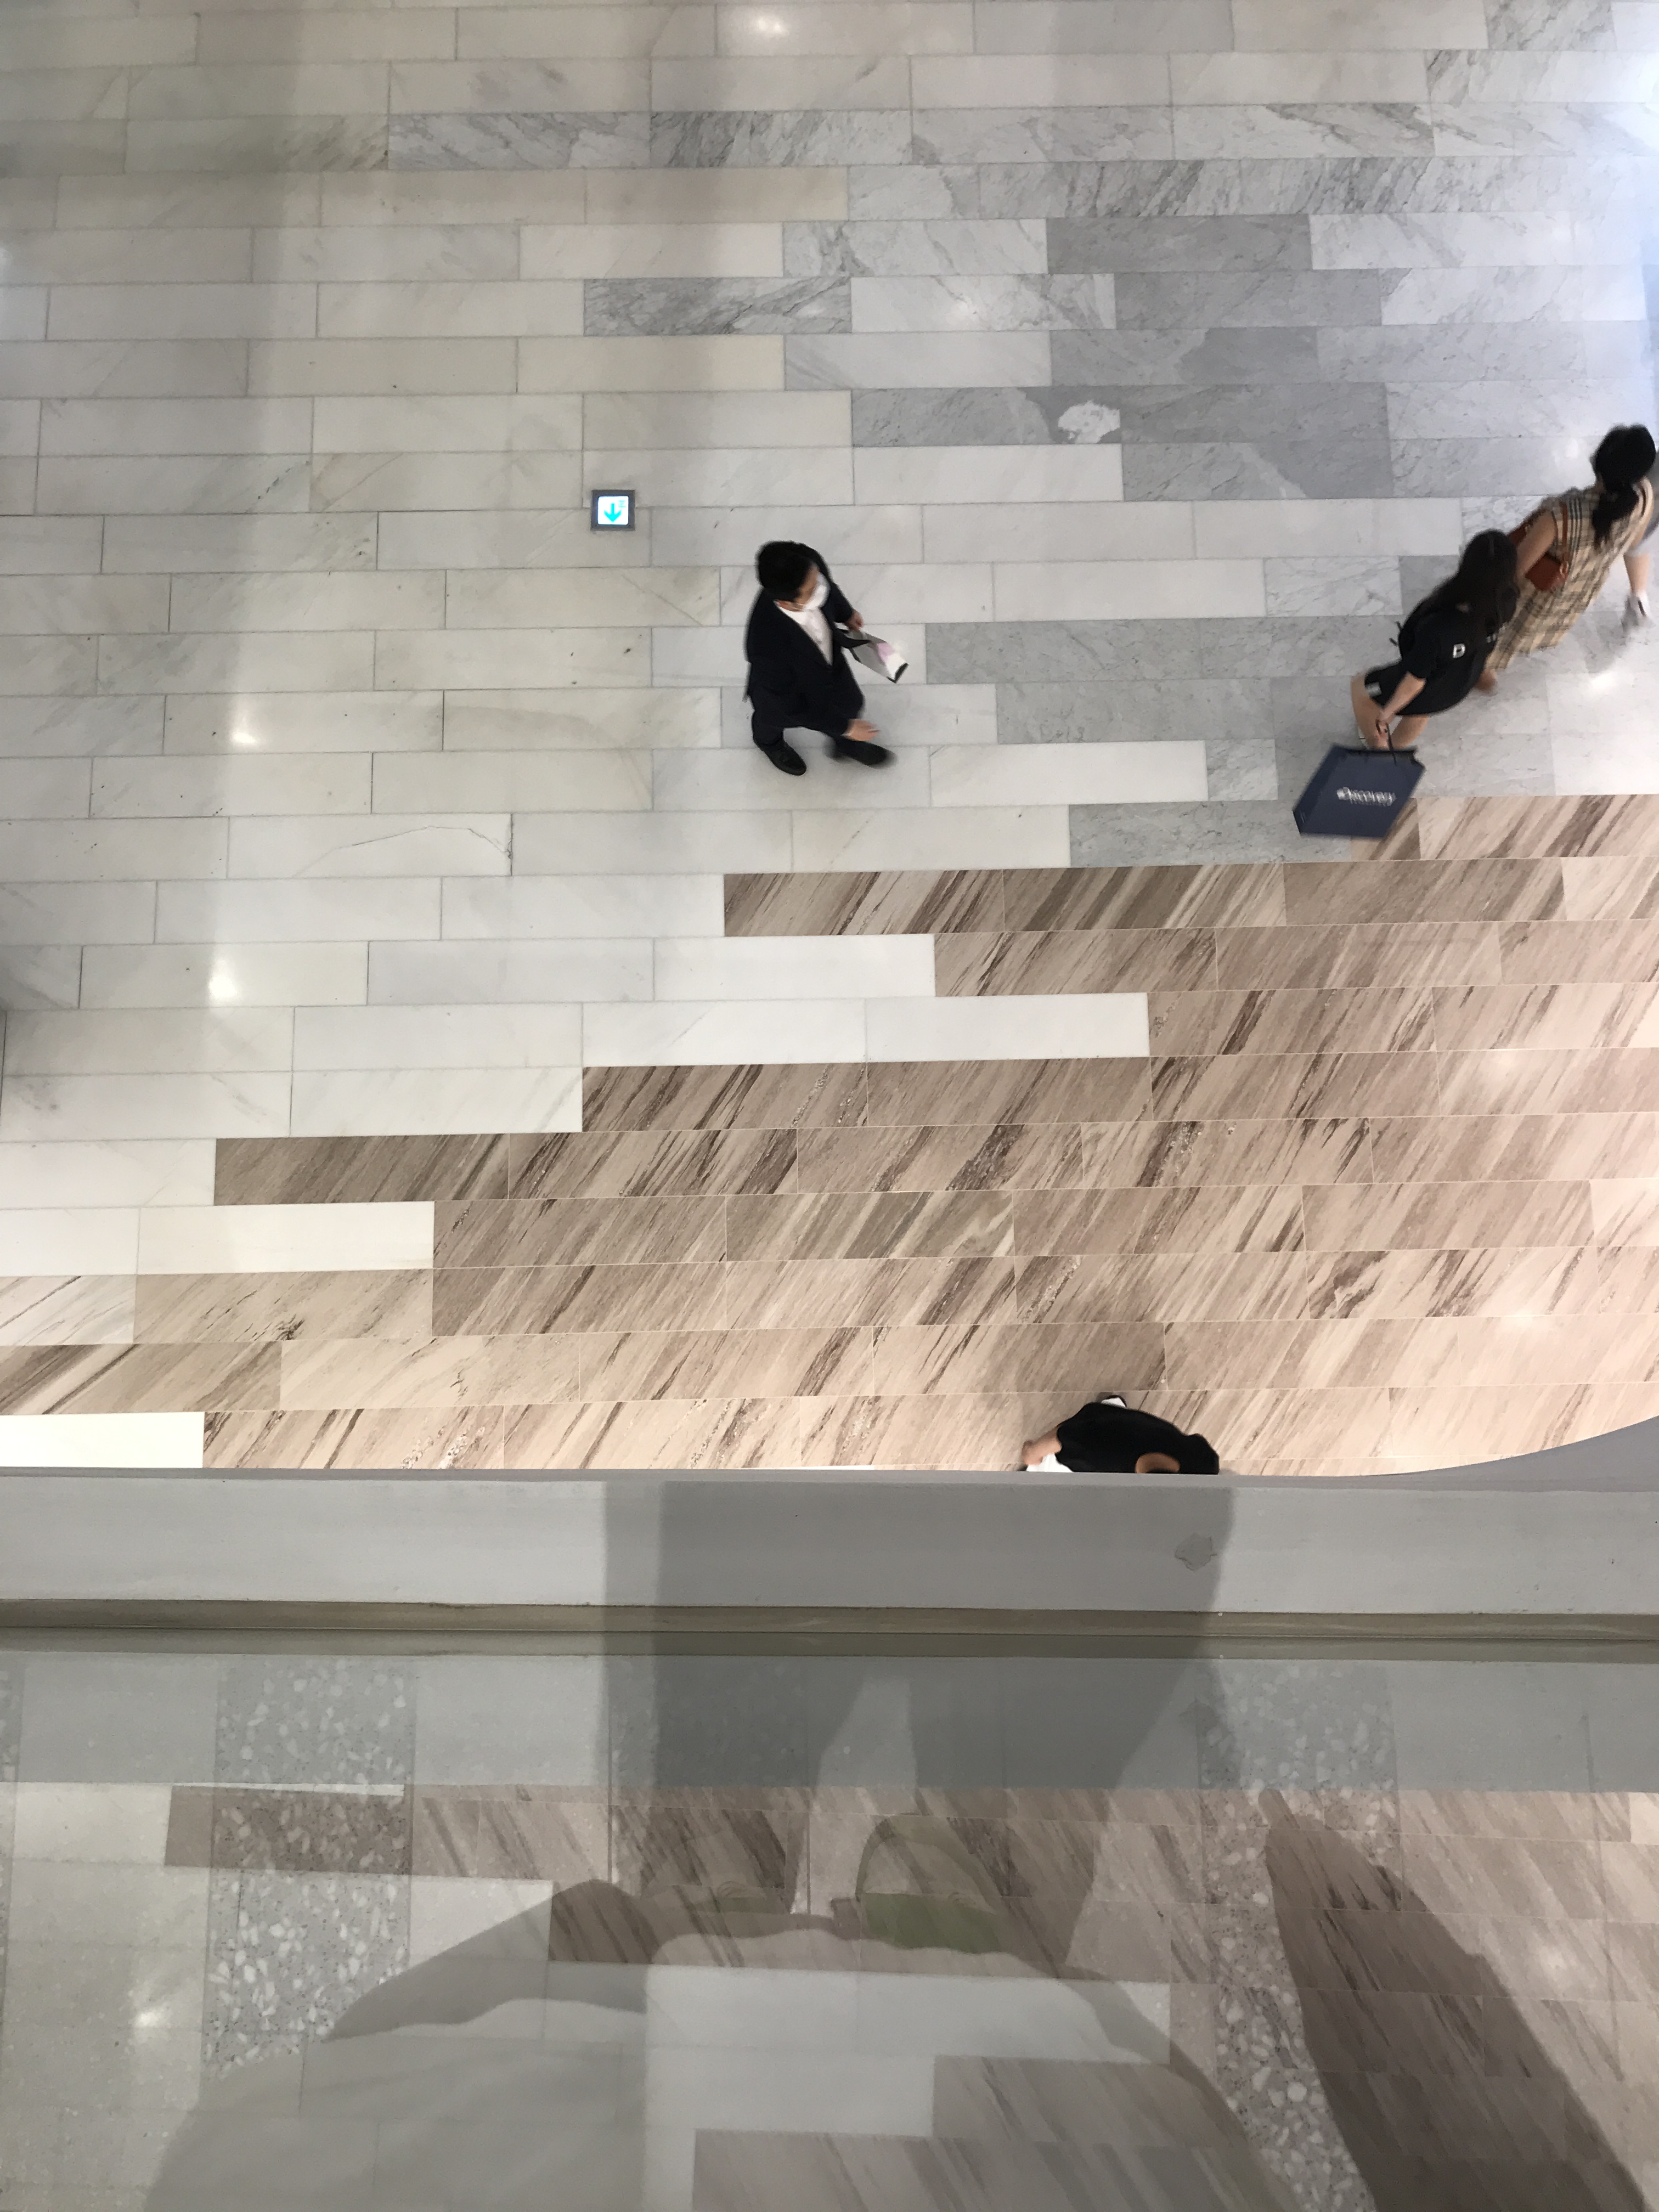person: (1475, 419, 1659, 697), (1350, 526, 1525, 752), (740, 540, 904, 779), (1017, 1392, 1217, 1479)
